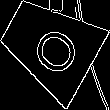O_NW: (20, 14, 80, 77)
